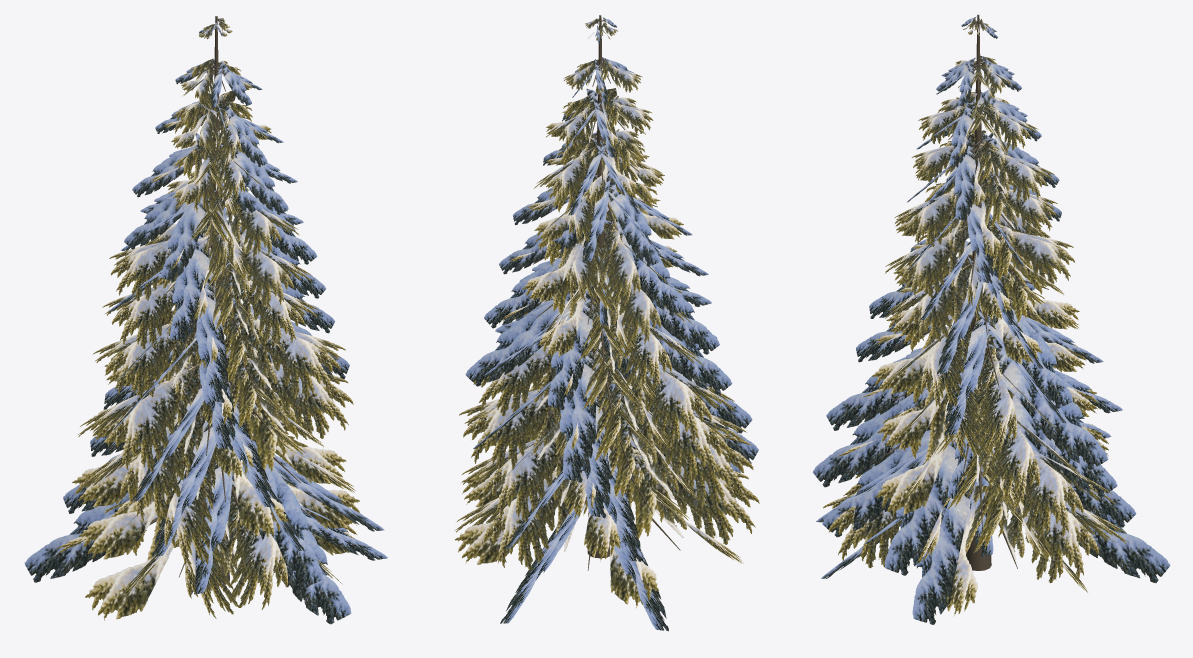
File: pine-lod0.glb
The picture shows the model from 3 angles, left to right: view 1: azimuth 30°, elevation 25°; view 2: azimuth 150°, elevation 25°; view 3: azimuth 270°, elevation 25°; orthographic projection. The views are drawn at different scales.
Visible parts, largest first — view 1: pine-lod0; view 2: pine-lod0; view 3: pine-lod0.
Boxes of the visible parts, x1,y1,x2,y2 form: pine-lod0: (24, 16, 387, 624); pine-lod0: (455, 15, 759, 631); pine-lod0: (813, 14, 1170, 624).
Size of the model in its own units: 3.03 by 4.97 by 2.98.
Materials: 1 (1 with a texture image).
